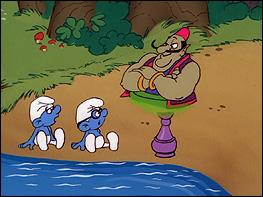smurf: (69, 95, 119, 155), (16, 94, 66, 152)
